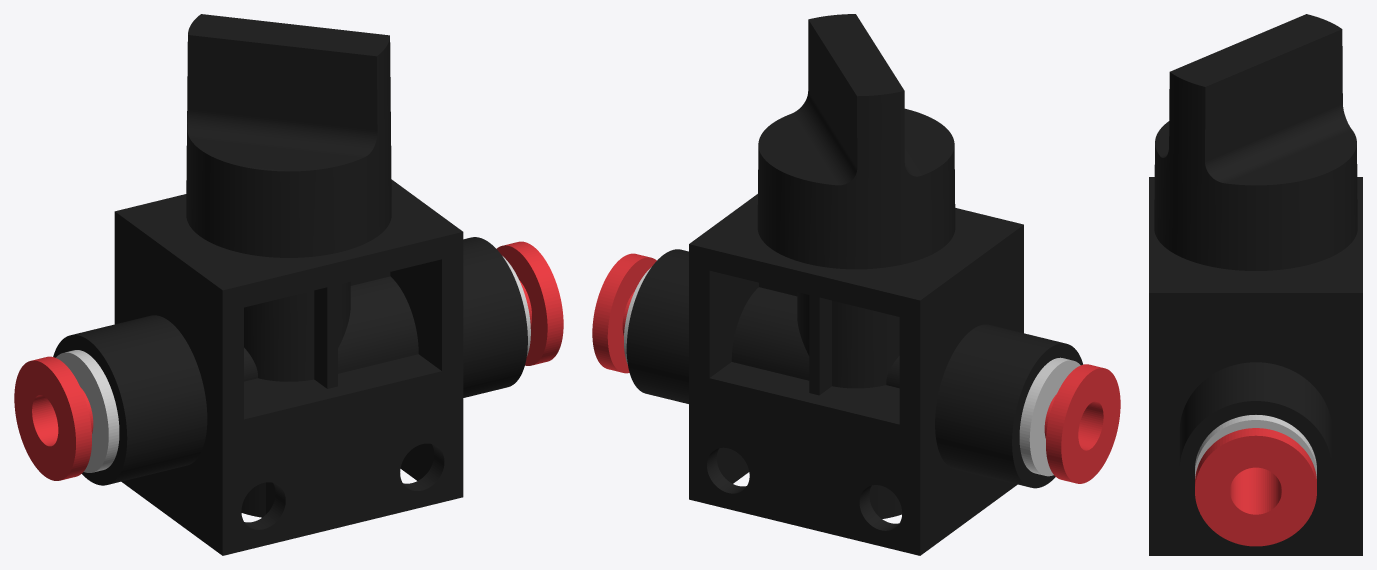
The model's file is Pneumatic_Hand_Valve.glb.
3 views of the same model, side by side, from view 1: azimuth 30°, elevation 25°; view 2: azimuth 150°, elevation 25°; view 3: azimuth 270°, elevation 25° (orthographic). The views are drawn at different scales.
Parts seen in each view (by area): view 1: Pneumatic Hand Valve; view 2: Pneumatic Hand Valve; view 3: Pneumatic Hand Valve.
Boxes of the visible parts, bbox=[...] form: Pneumatic Hand Valve: bbox=[14, 14, 563, 555]; Pneumatic Hand Valve: bbox=[592, 14, 1120, 555]; Pneumatic Hand Valve: bbox=[1149, 14, 1362, 555].
Bounding box in the file's own units: 1.83 × 1.62 × 0.7.
